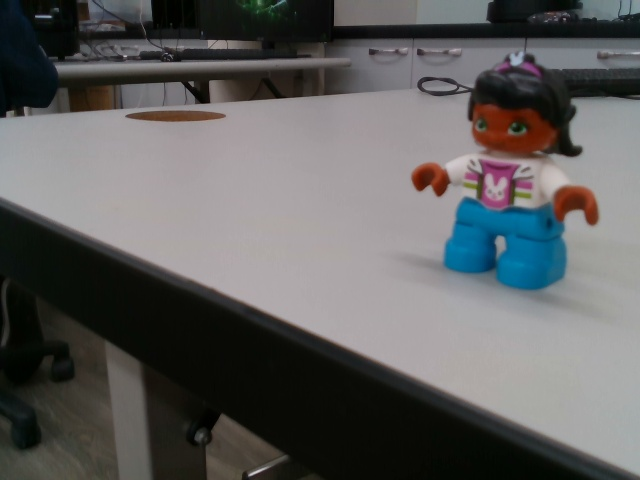people: (408, 48, 604, 292)
